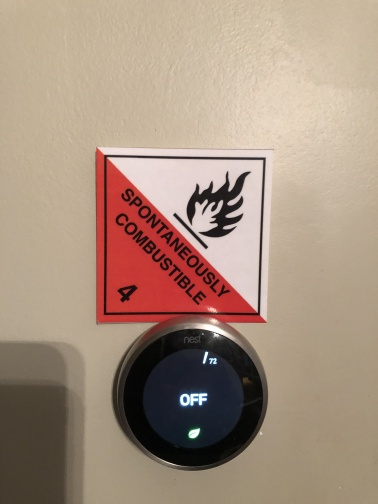SpontaneouslyCombustible: (97, 147, 275, 325)
